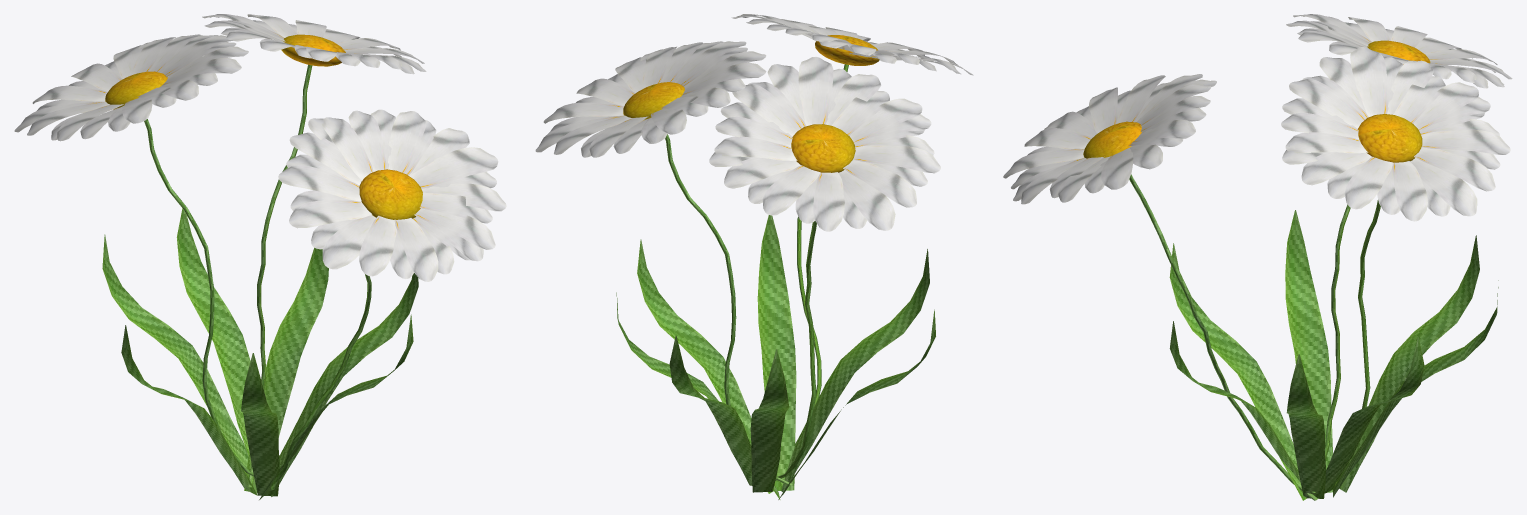
File: flowers.glb
3 views of the same model, side by side, from view 1: azimuth 30°, elevation 25°; view 2: azimuth 150°, elevation 25°; view 3: azimuth 270°, elevation 25° (orthographic).
Parts seen in each view (by area): view 1: Plane001, Plane007, Plane002, Plane004, Plane006, Sphere001, petalo, Plane003, petalo012, Cylinder002, petalo014, petalo007 (+32 smaller); view 2: Plane005, Plane004, Plane006, Plane002, Sphere002, Plane001, petalo025, petalo035, petalo042, petalo044, petalo037, petalo039 (+36 smaller); view 3: Plane003, Plane004, Plane002, Plane006, Sphere003, Plane007, petalo050, Plane001, Cylinder001, petalo060, petalo067, petalo069 (+32 smaller).
Boxes of the visible parts, <box> form: Plane001: <box>176,208,250,455</box>; Plane007: <box>244,247,328,492</box>; Plane002: <box>102,234,248,474</box>; Plane004: <box>241,353,279,496</box>; Plane006: <box>271,273,418,496</box>; Sphere001: <box>359,169,422,219</box>; petalo: <box>409,147,498,188</box>; Plane003: <box>121,325,257,495</box>; petalo012: <box>289,200,372,228</box>; Cylinder002: <box>144,119,253,476</box>; petalo014: <box>278,165,361,201</box>; petalo007: <box>388,111,425,173</box>; Plane005: <box>757,215,796,490</box>; Plane004: <box>781,249,929,492</box>; Plane006: <box>637,239,773,493</box>; Plane002: <box>750,349,789,492</box>; Sphere002: <box>791,124,855,172</box>; Plane001: <box>669,335,752,485</box>; petalo025: <box>798,57,833,126</box>; petalo035: <box>838,170,895,230</box>; petalo042: <box>853,145,940,173</box>; petalo044: <box>843,160,916,207</box>; petalo037: <box>813,172,844,231</box>; petalo039: <box>762,165,820,215</box>; Plane003: <box>1285,210,1332,492</box>; Plane004: <box>1169,243,1306,500</box>; Plane002: <box>1335,235,1479,492</box>; Plane006: <box>1286,354,1325,498</box>; Sphere003: <box>1357,114,1422,162</box>; Plane007: <box>1324,337,1424,493</box>; petalo050: <box>1350,47,1387,116</box>; Plane001: <box>1333,280,1498,497</box>; Cylinder001: <box>1129,174,1317,500</box>; petalo060: <box>1410,158,1477,216</box>; petalo067: <box>1421,129,1510,154</box>; petalo069: <box>1414,147,1495,191</box>.
Size of the model in its own units: 46.53 by 52.71 by 54.64.
3 materials, 3 textured.
